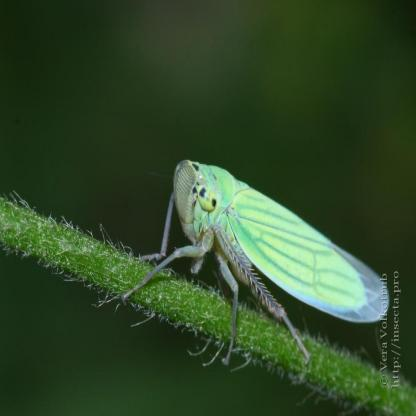Green-Leafhopper: (124, 156, 392, 367)
